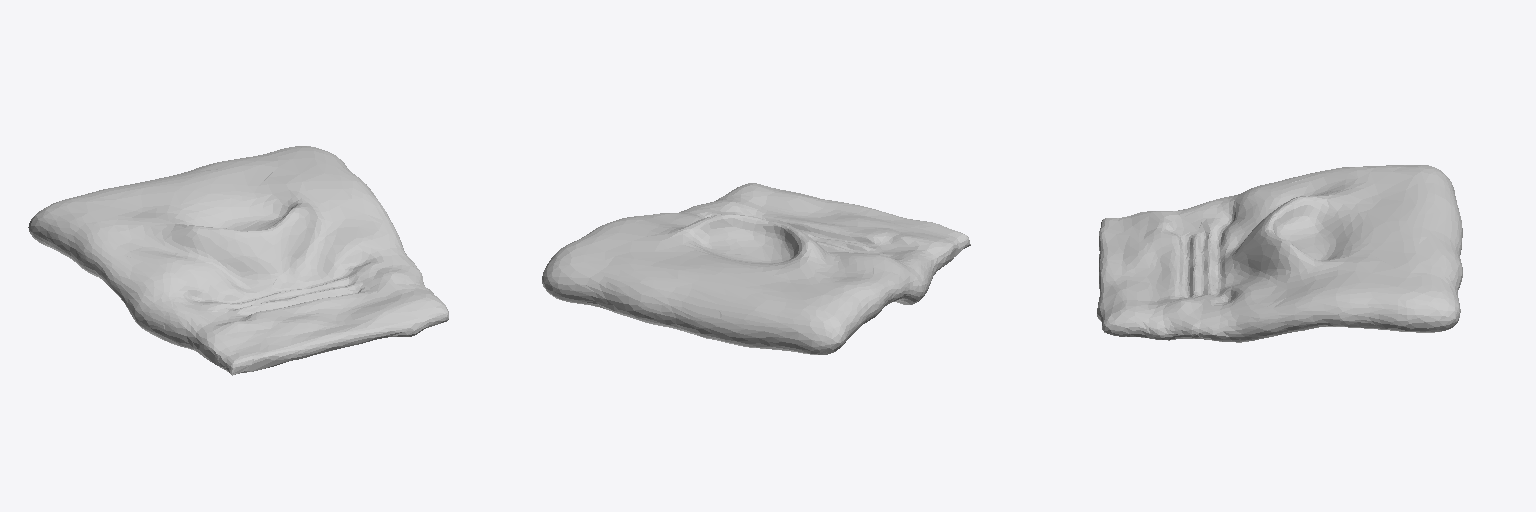
File: sand.obj
3 views of the same model, side by side, from view 1: azimuth 30°, elevation 25°; view 2: azimuth 150°, elevation 25°; view 3: azimuth 270°, elevation 25° (orthographic).
Visible parts, largest first — view 1: lod0_Plane.011; view 2: lod0_Plane.011; view 3: lod0_Plane.011.
Boxes of the visible parts, box(x1,y1,x2,y2) form: lod0_Plane.011: box(28, 146, 448, 375); lod0_Plane.011: box(542, 183, 970, 354); lod0_Plane.011: box(1097, 165, 1462, 342).
Bounding box in the file's own units: 39.28 × 8.57 × 41.43.